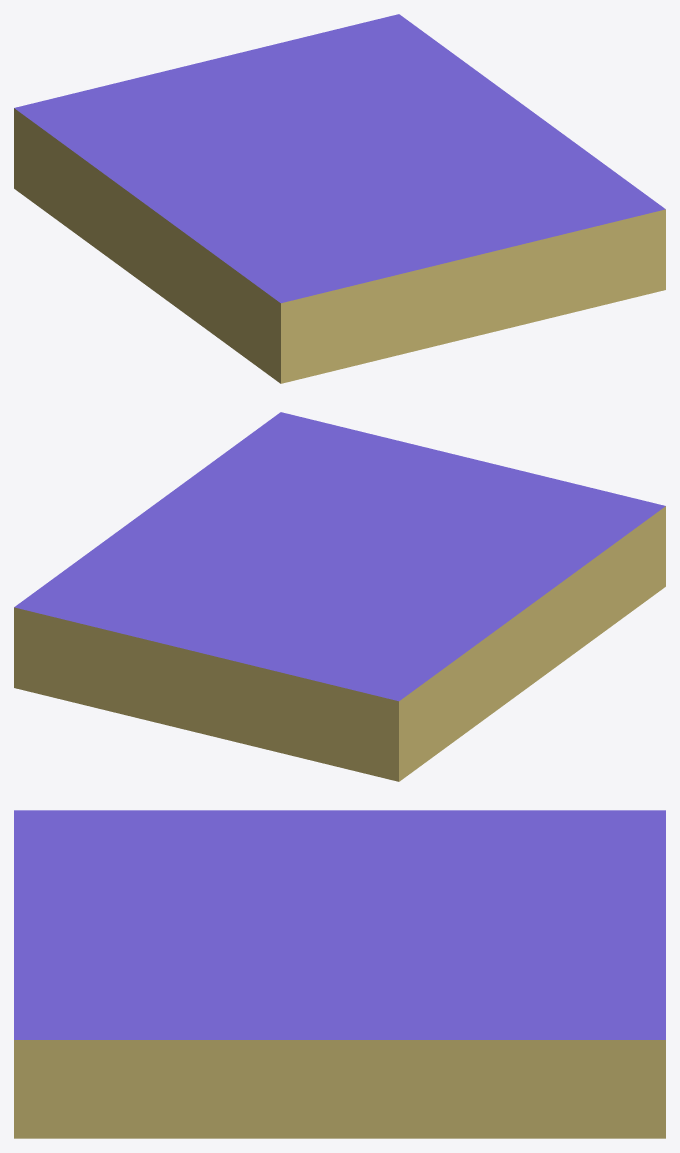
File: Floor_Edge.fbx
3 views of the same model, one above another, from view 1: azimuth 30°, elevation 25°; view 2: azimuth 150°, elevation 25°; view 3: azimuth 270°, elevation 25° (orthographic). The views are drawn at different scales.
Parts seen in each view (by area): view 1: Floor_Edge_Base; view 2: Floor_Edge_Base; view 3: Floor_Edge_Base.
Part boxes in pixels (x1=…): Floor_Edge_Base: x1=14, y1=14, x2=665, y2=383; Floor_Edge_Base: x1=14, y1=412, x2=665, y2=781; Floor_Edge_Base: x1=14, y1=810, x2=665, y2=1138.
Size of the model in its own units: 1000 by 200 by 1200.
